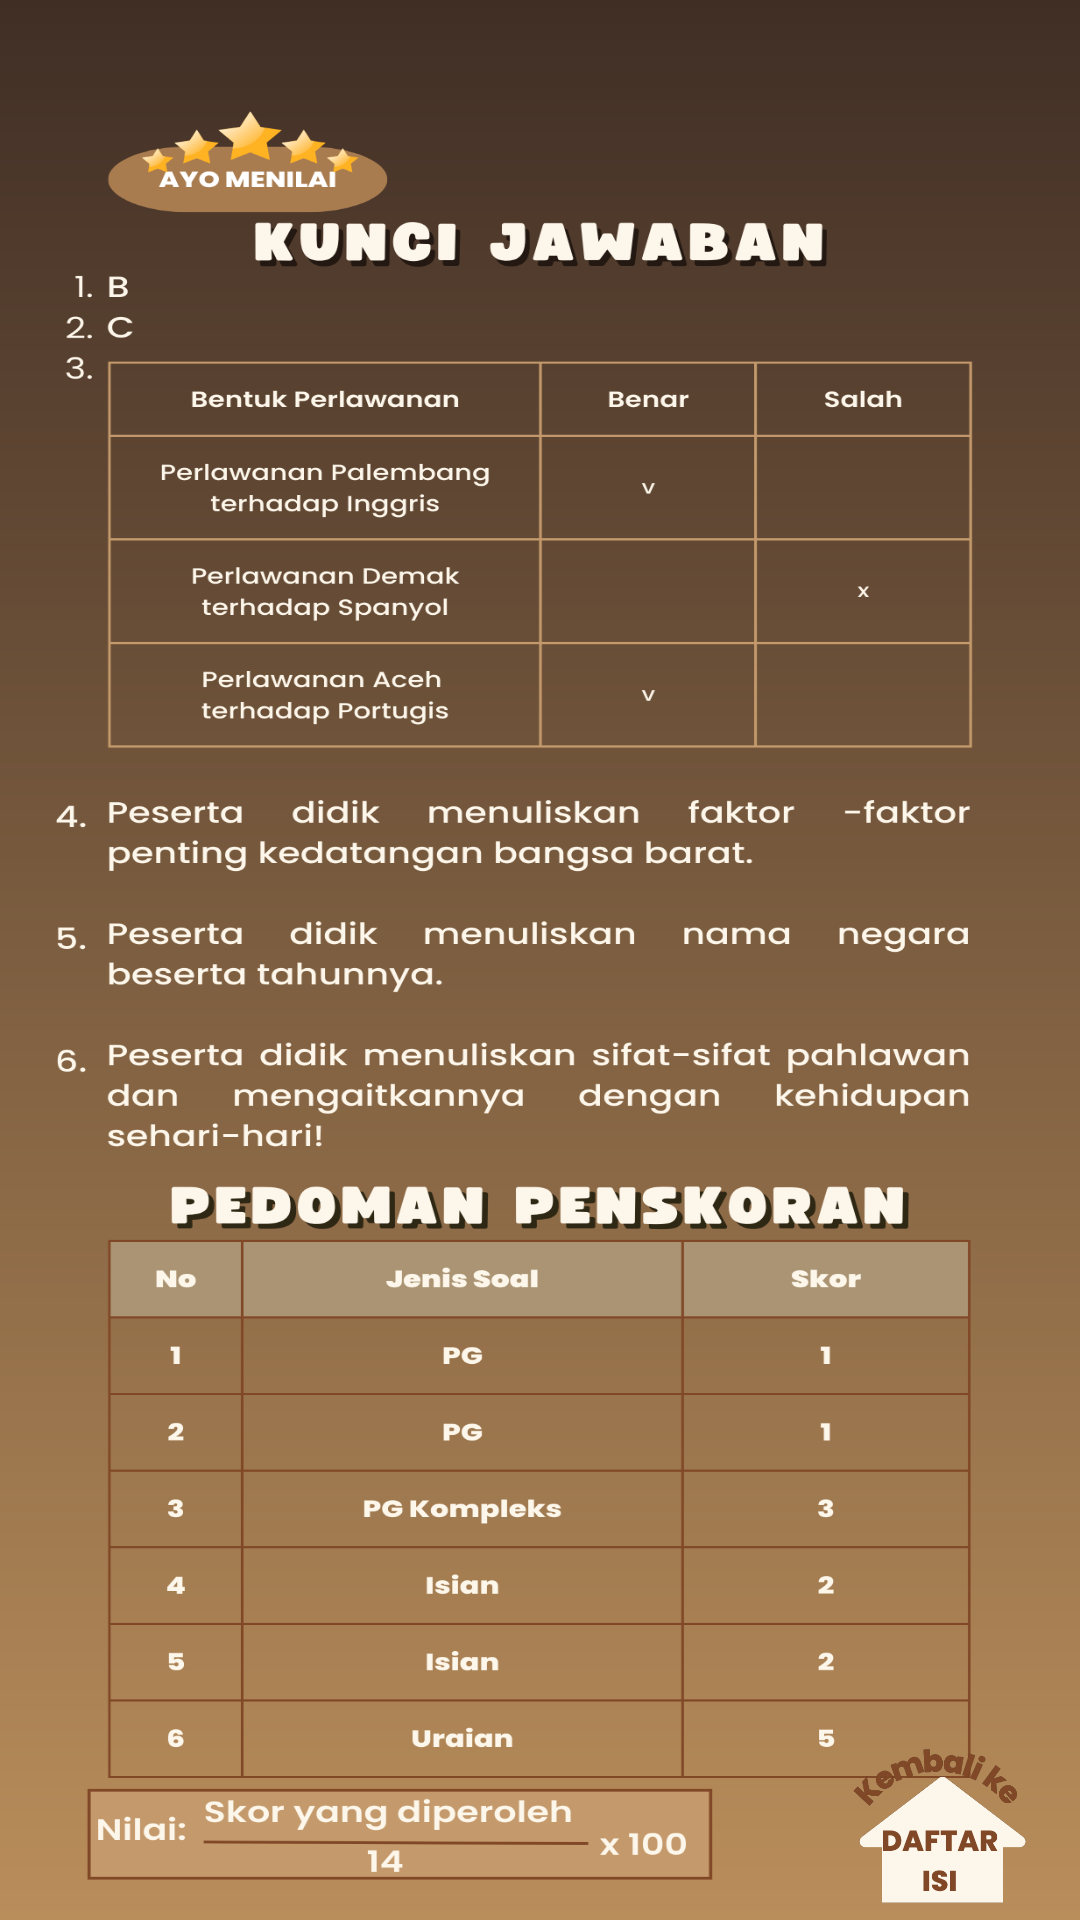

Locate icon controls on the screen. Image size 1080*1920, boxes as region(x1, y1, x2, y2).
home: region(852, 1743, 1026, 1903)
